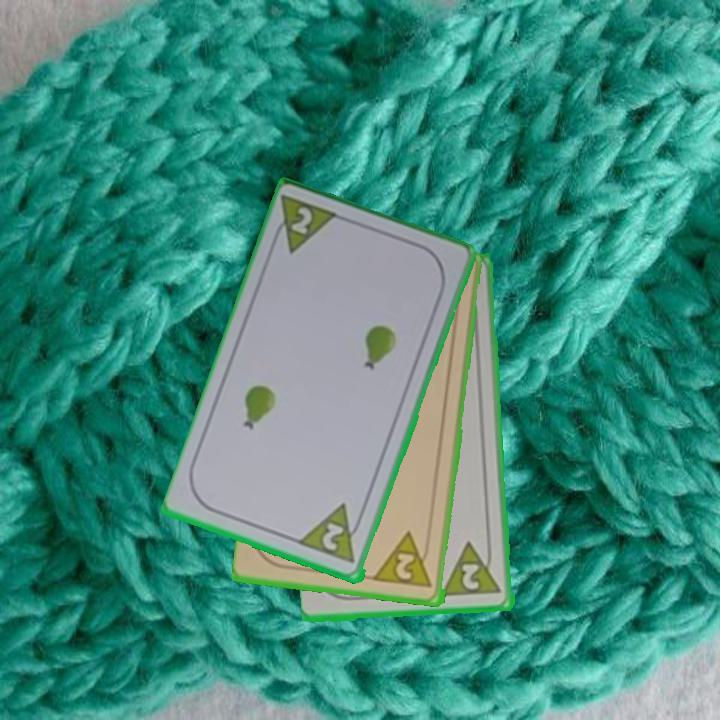2p: (372, 529, 436, 592), (318, 519, 347, 555), (287, 203, 316, 238), (458, 560, 483, 593)
